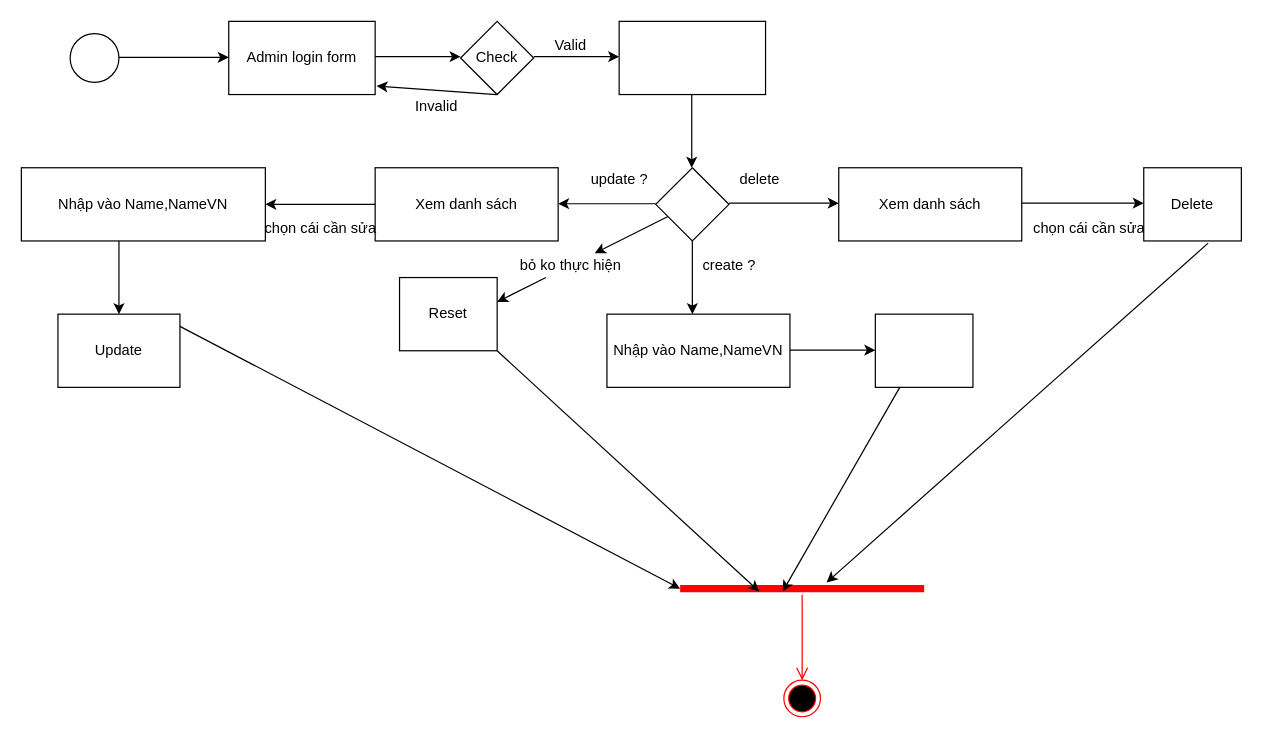
This 1263x738 diagram has some shape labels left out. Each missing label, with the box of its shape:
Choose: (655, 167, 729, 241)
Create: (874, 313, 973, 387)
Form quản lí thể loại: (618, 20, 766, 95)
Start: (69, 32, 119, 82)
